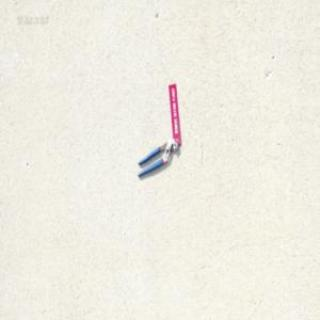LuggageTagtrack_idkeyframe: (168, 82, 180, 145)
Pliertrack_idkeyframe: (136, 136, 177, 178)
